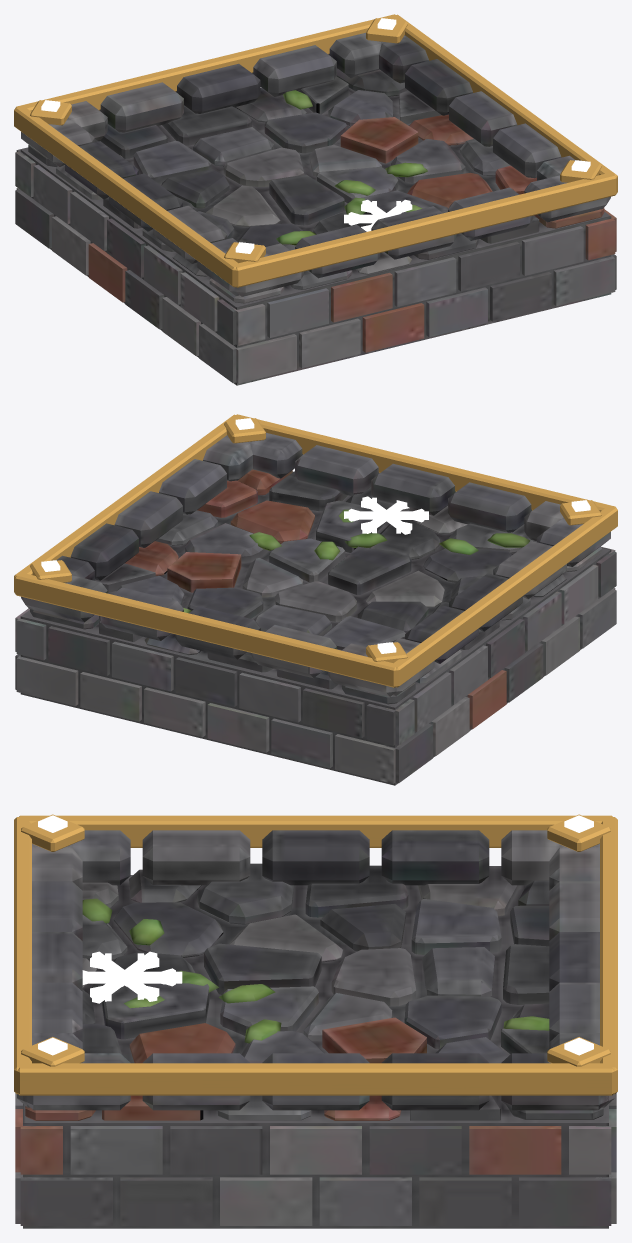
Rendered from plate_3_ice.glb.
The picture shows the model from 3 angles, top to bottom: view 1: azimuth 30°, elevation 25°; view 2: azimuth 150°, elevation 25°; view 3: azimuth 270°, elevation 25°; orthographic projection. The views are drawn at different scales.
Parts seen in each view (by area): view 1: plate_3_ice; view 2: plate_3_ice; view 3: plate_3_ice.
Boxes of the visible parts, x1,y1,x2,y2 form: plate_3_ice: [14, 14, 617, 385]; plate_3_ice: [14, 414, 617, 785]; plate_3_ice: [14, 814, 617, 1228].
Bounding box in the file's own units: 2.02 × 0.635 × 2.02.
Materials: 2 (1 with a texture image).
